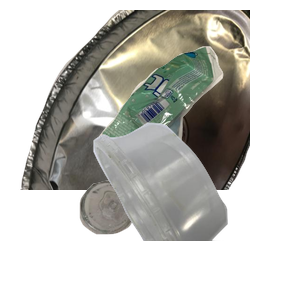glass: (77, 178, 205, 300)
metal: (18, 10, 258, 190)
plastic: (91, 120, 300, 300)
trash: (92, 44, 300, 211)
